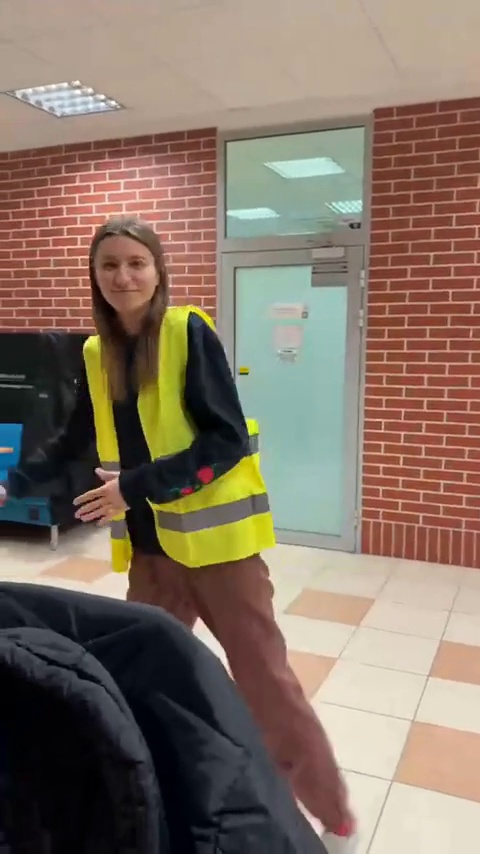vest: (65, 226, 289, 748)
